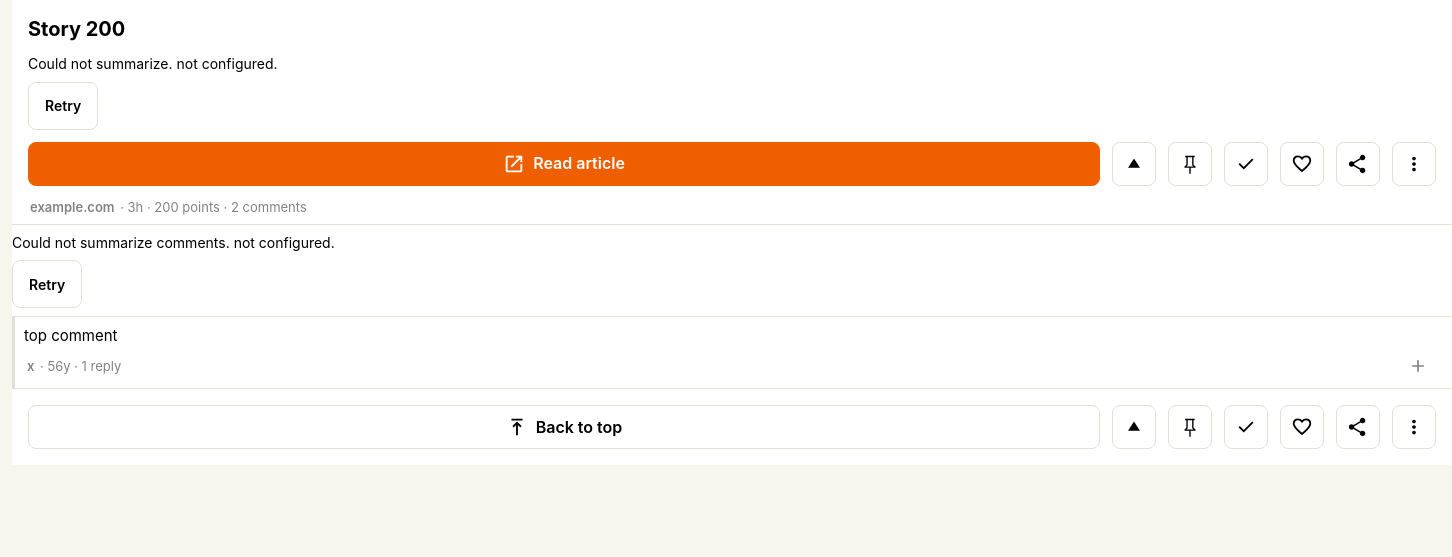
<Thread> › expands a collapsed subtree via the meta toggle and lazy-loads children
Expected: the text "top comment" is shown, top-left (24, 326), bottom-right (118, 345)
Expected: the text "child comment" is not shown
Click the button named "expand comment".
click(1418, 366)  # box top-left (1396, 348), bottom-right (1440, 384)
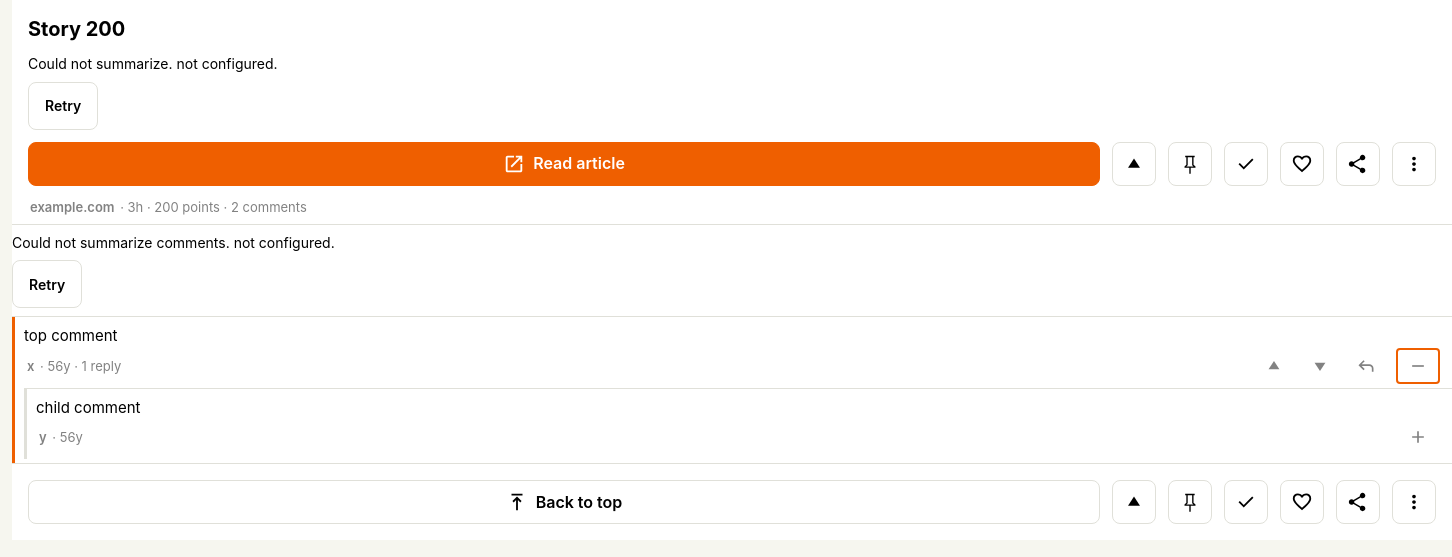
Expected: the text "child comment" is shown, top-left (36, 398), bottom-right (140, 417)
Click the button named "collapse comment".
click(1418, 366)  # box top-left (1396, 348), bottom-right (1440, 384)
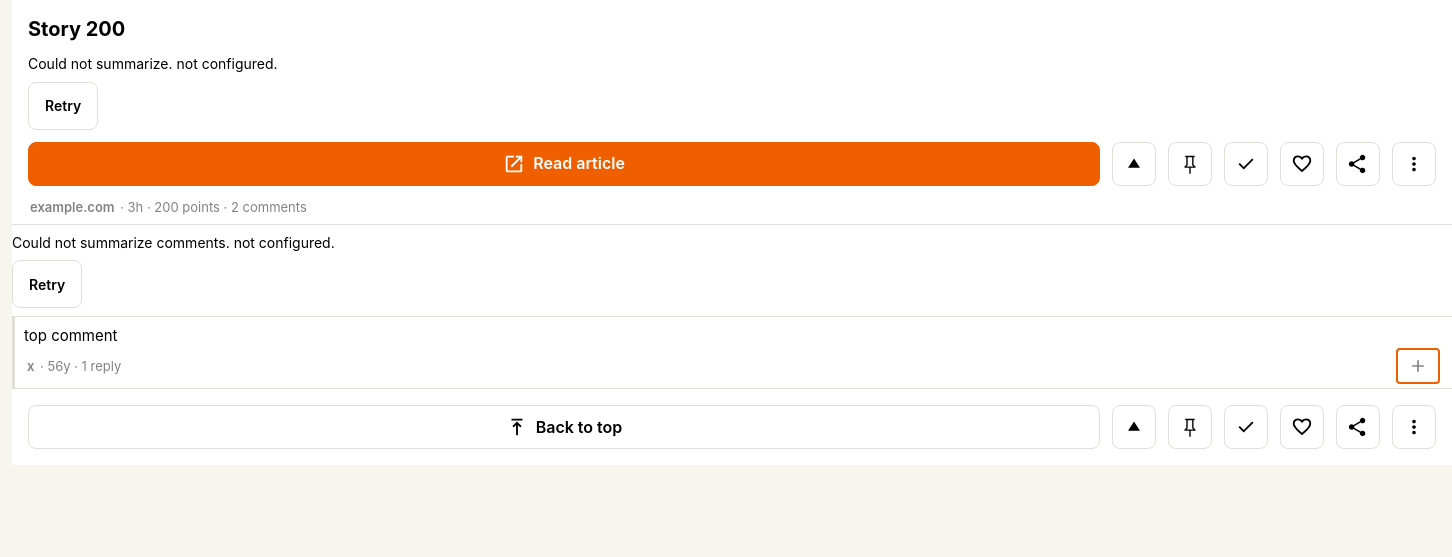
Expected: the text "child comment" is gone
